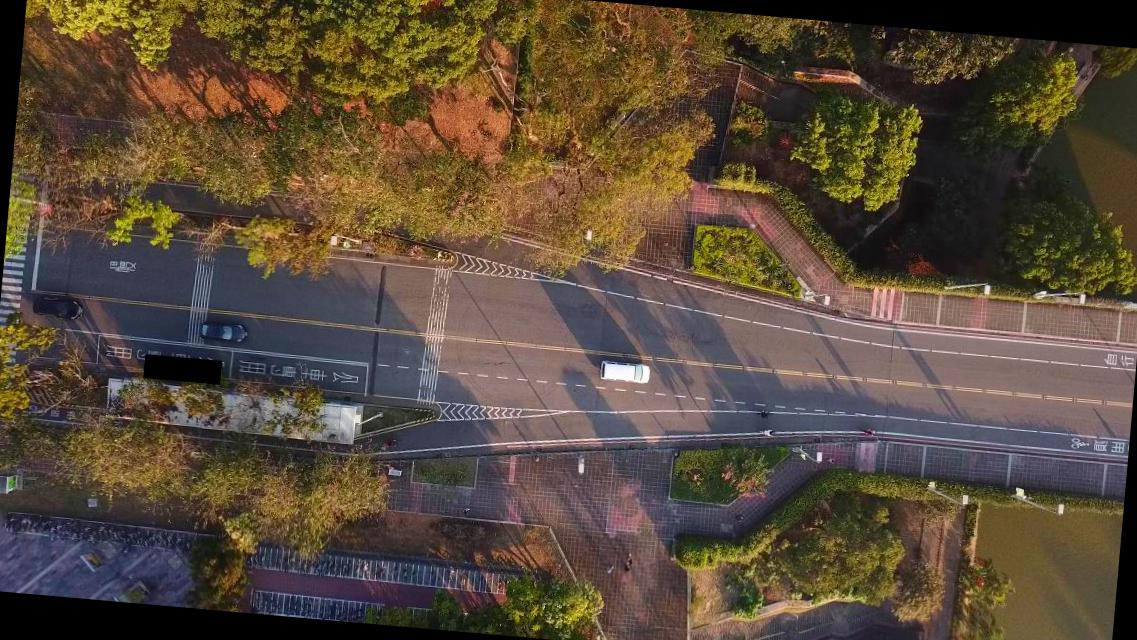vehicle: (598, 360, 650, 384), (30, 296, 82, 320), (197, 321, 247, 344)
